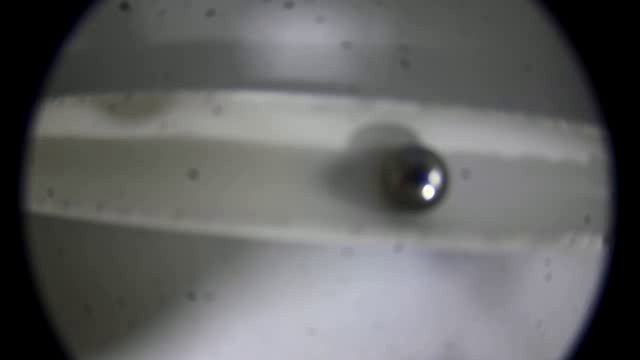gangzhu: (381, 148, 451, 212)
